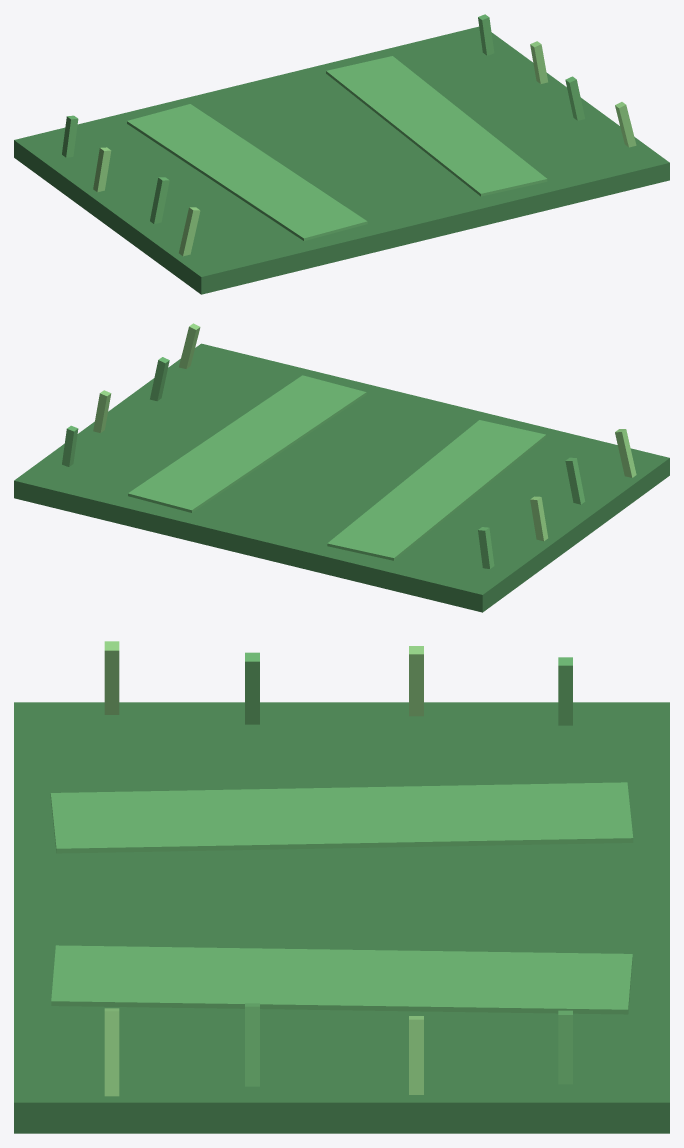
Rendered from track_grass_2lane.glb.
The picture shows the model from 3 angles, top to bottom: view 1: azimuth 30°, elevation 25°; view 2: azimuth 150°, elevation 25°; view 3: azimuth 270°, elevation 25°; orthographic projection. The views are drawn at different scales.
Visible parts, largest first — view 1: track_grass_2lane; view 2: track_grass_2lane; view 3: track_grass_2lane.
Boxes of the visible parts, x1,y1,x2,y2 form: track_grass_2lane: (14,14,669,294); track_grass_2lane: (14,323,669,612); track_grass_2lane: (14,641,669,1133).
Size of the model in its own units: 4.45 by 0.5544 by 3.08.
